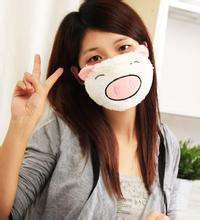OK: (85, 38, 153, 105)
